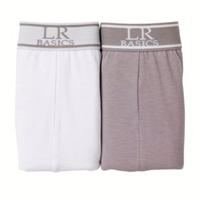mutande: (14, 21, 100, 171), (99, 21, 184, 171)
